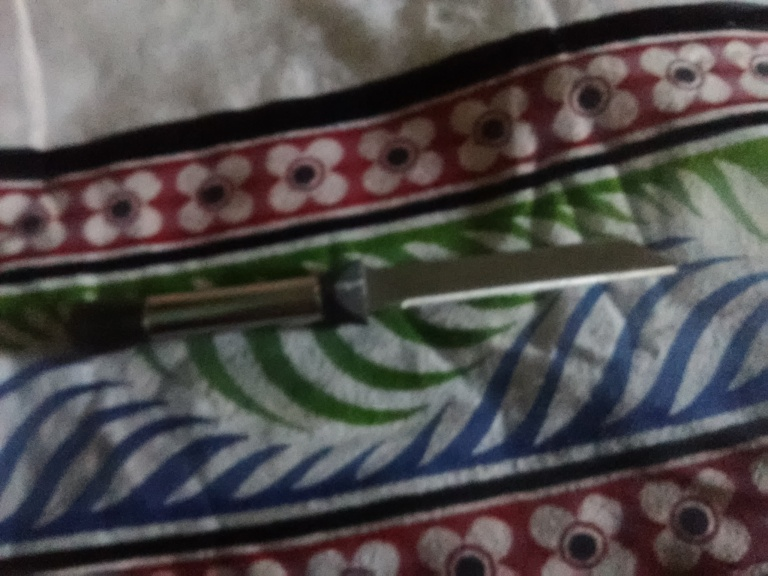knife: (69, 242, 681, 355)
